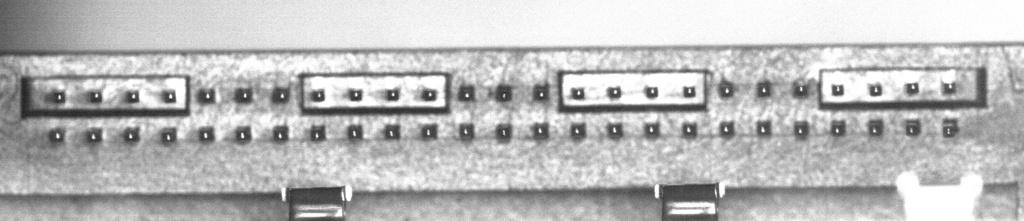pin_ok: (495, 84, 513, 102), (532, 83, 550, 101), (942, 118, 959, 137), (234, 86, 253, 103), (457, 84, 475, 101), (271, 86, 289, 103), (904, 118, 921, 136), (718, 80, 735, 98), (197, 87, 216, 103), (531, 122, 548, 139), (458, 123, 475, 140), (868, 118, 884, 136), (831, 119, 847, 137), (756, 119, 772, 136), (346, 123, 362, 140), (310, 124, 326, 141), (793, 81, 809, 98), (756, 81, 772, 98), (570, 122, 587, 138), (495, 124, 512, 140), (421, 123, 438, 139), (123, 126, 140, 142), (48, 127, 65, 143), (607, 122, 623, 138), (384, 123, 400, 139), (272, 125, 288, 141), (719, 120, 735, 136), (198, 126, 214, 142), (794, 120, 809, 137), (160, 128, 177, 143), (235, 126, 251, 141), (644, 121, 659, 137), (682, 121, 697, 137), (86, 128, 102, 143), (941, 79, 956, 94), (868, 82, 883, 96), (570, 86, 585, 100), (310, 88, 325, 102), (422, 87, 437, 101), (905, 81, 919, 95), (125, 89, 139, 103), (386, 87, 400, 101), (163, 89, 177, 103), (607, 85, 621, 99), (644, 85, 659, 98), (348, 88, 363, 101), (88, 90, 102, 103), (52, 89, 66, 102), (831, 83, 844, 96), (683, 85, 696, 98)
